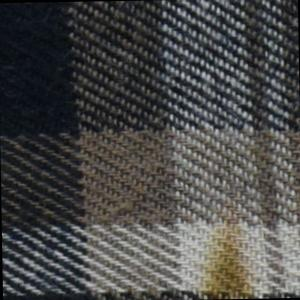Oil Stain: (196, 214, 262, 300)
